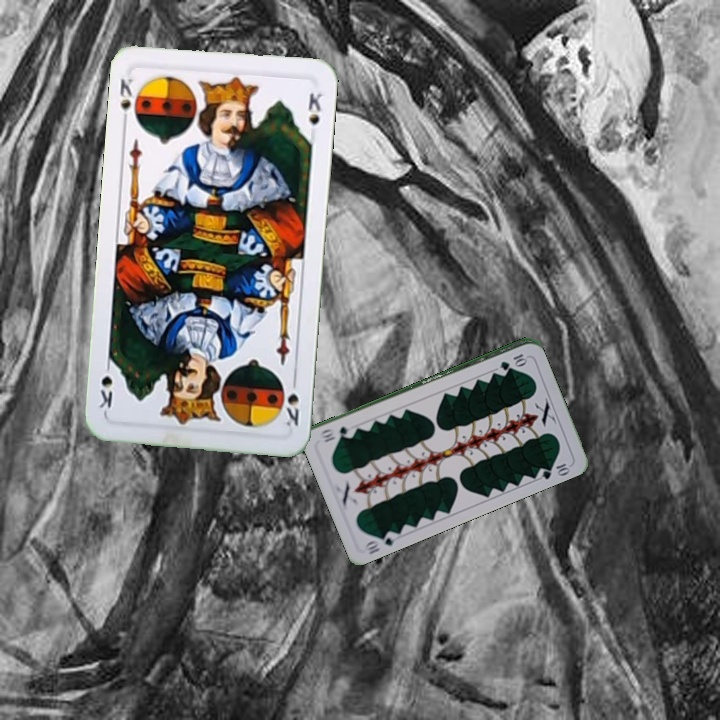G10: (362, 527, 400, 557), (496, 350, 529, 371)
SK: (282, 372, 302, 429), (115, 74, 135, 128)
